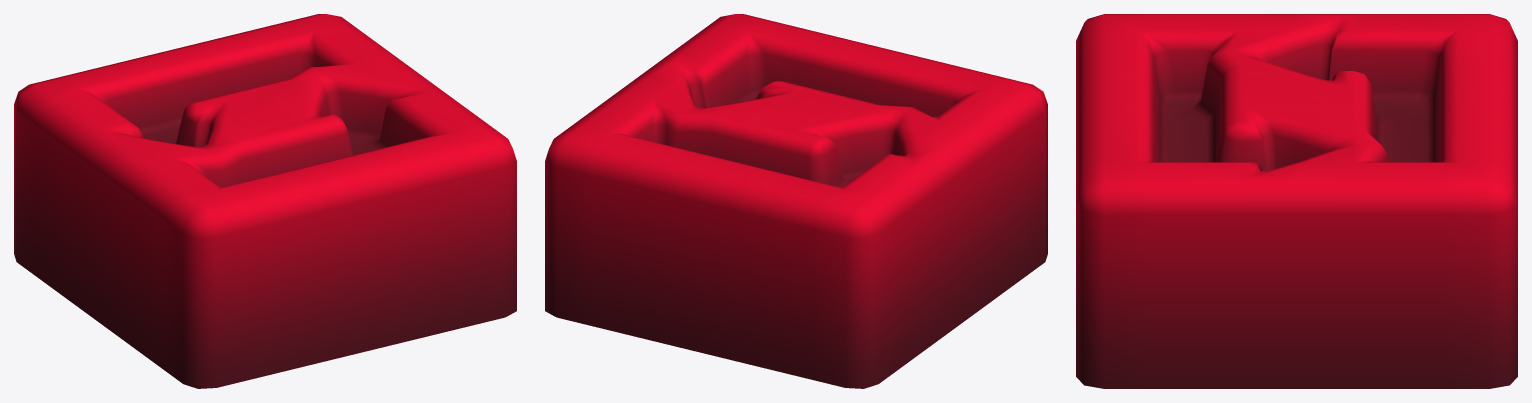
The model's file is ButtonReset.fbx.
3 views of the same model, side by side, from view 1: azimuth 30°, elevation 25°; view 2: azimuth 150°, elevation 25°; view 3: azimuth 270°, elevation 25° (orthographic). The views are drawn at different scales.
Parts seen in each view (by area): view 1: Reset; view 2: Reset; view 3: Reset.
Boxes of the visible parts, x1,y1,x2,y2 form: Reset: [14, 14, 516, 388]; Reset: [545, 14, 1047, 388]; Reset: [1076, 14, 1517, 388].
Bounding box in the file's own units: 1 × 0.4979 × 1.
